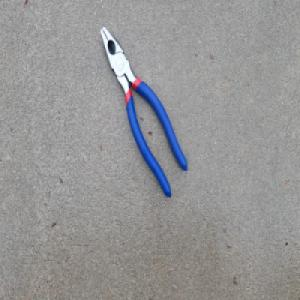Pliers: (98, 22, 187, 199)
